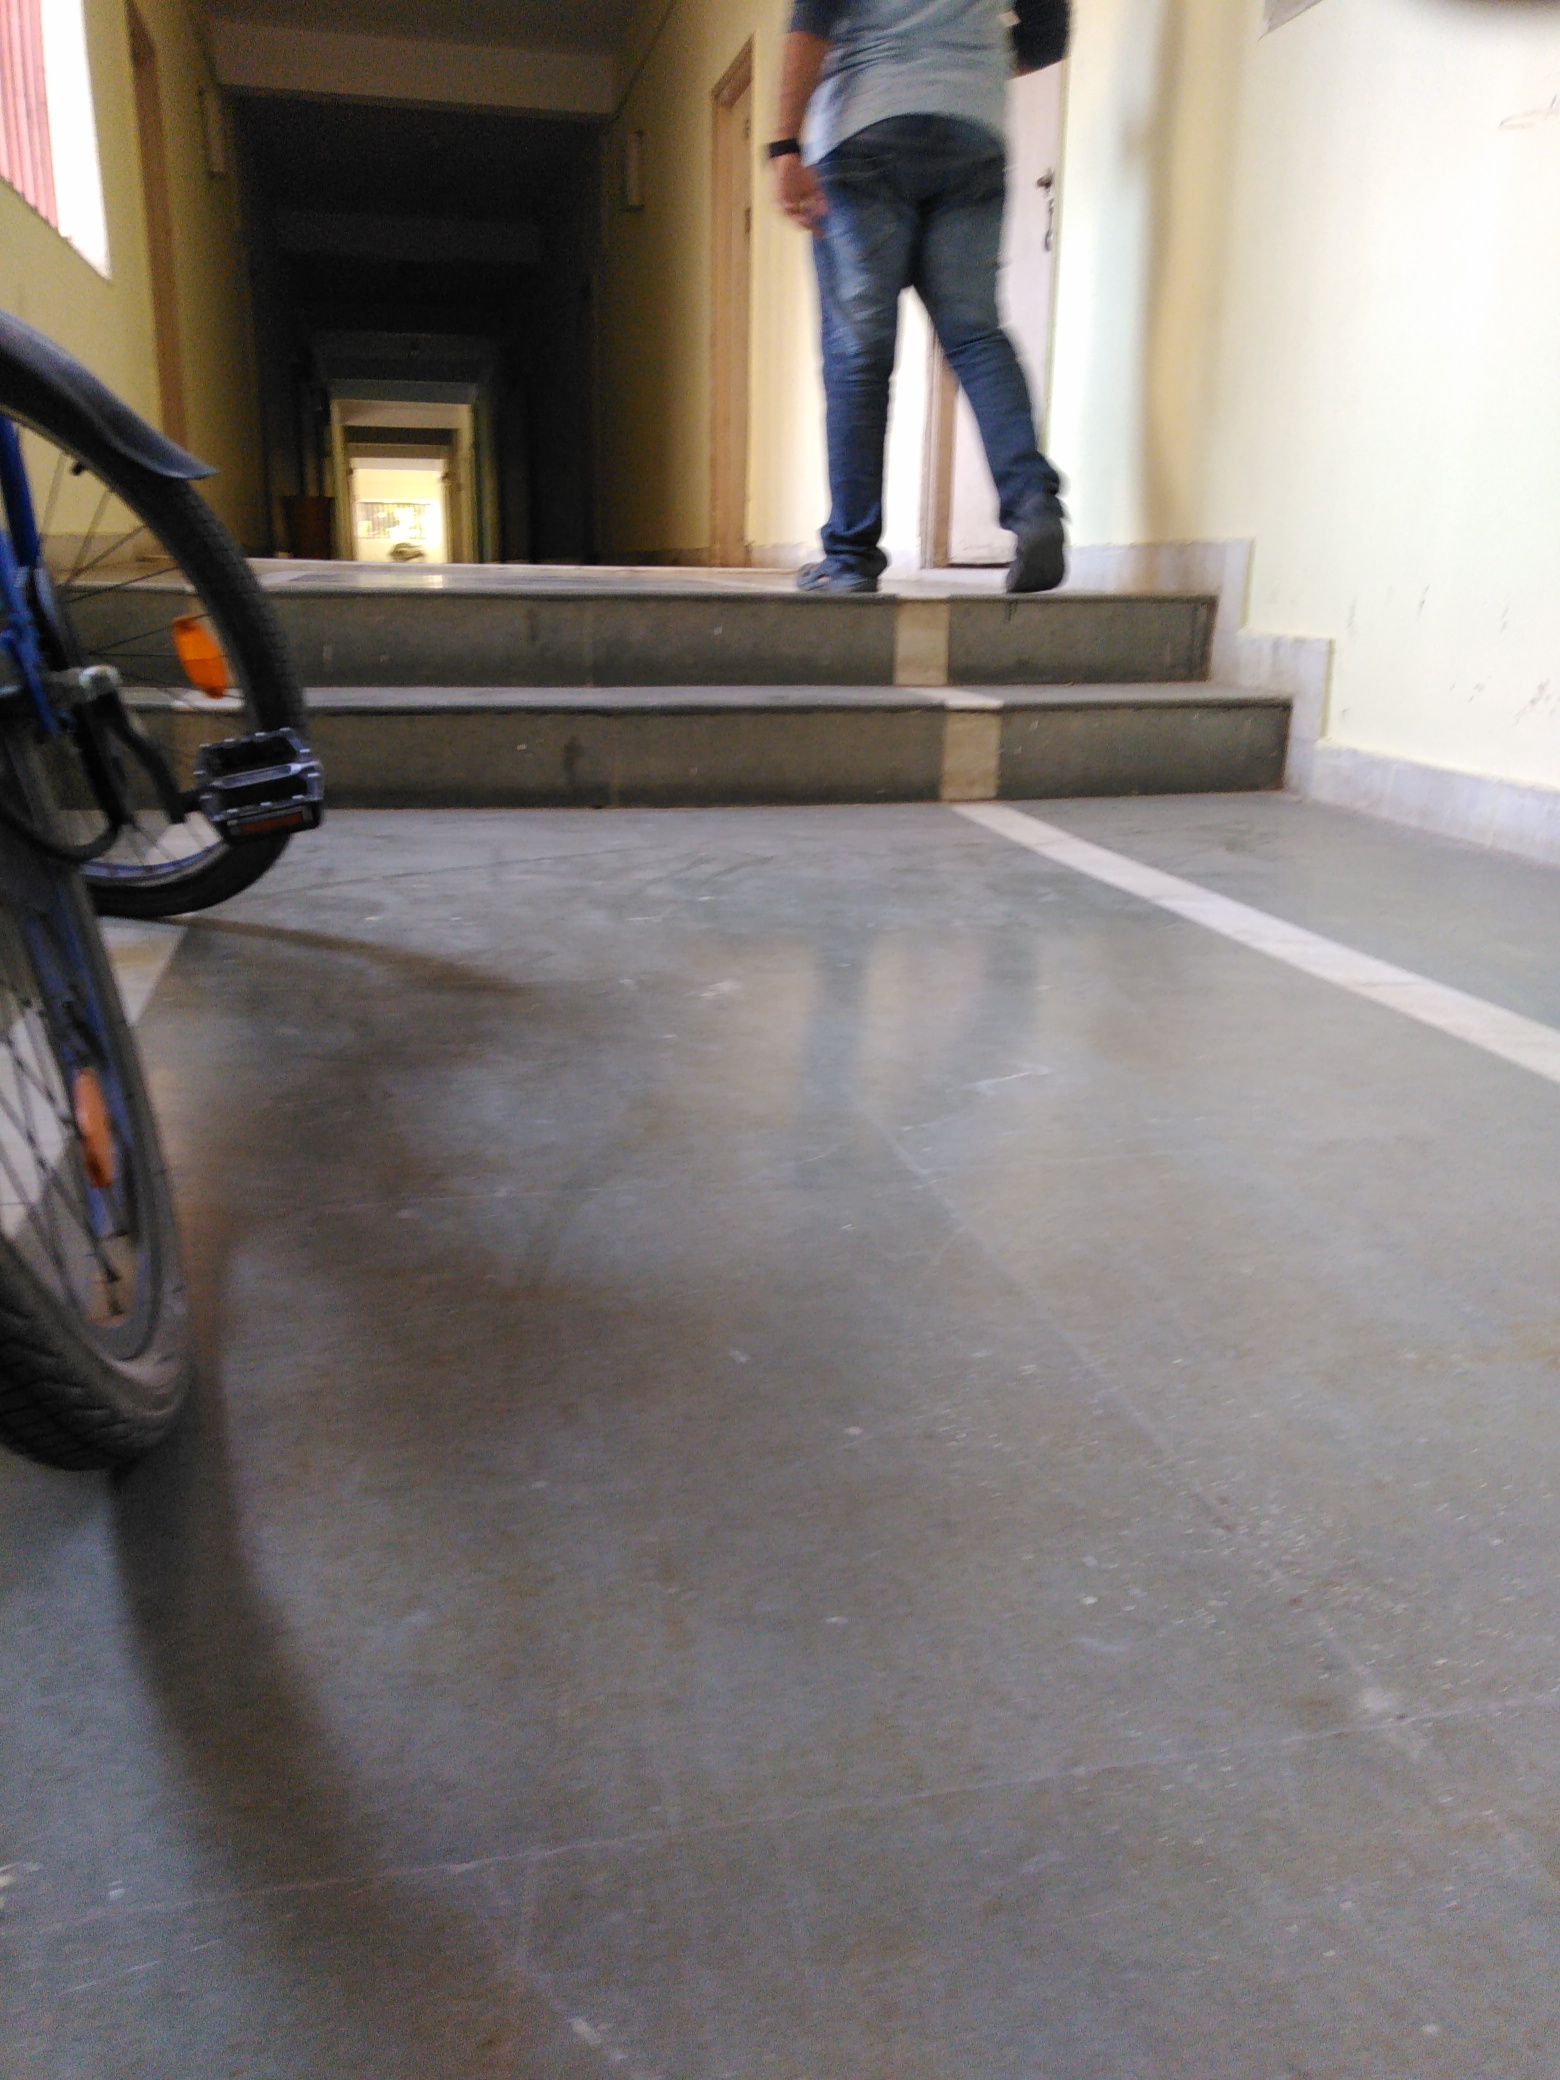stairs_up: (324, 572, 1295, 803)
